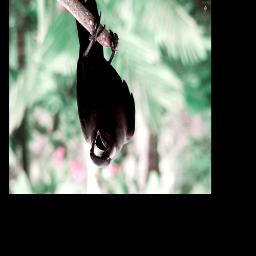Crow: (74, 1, 136, 169)
